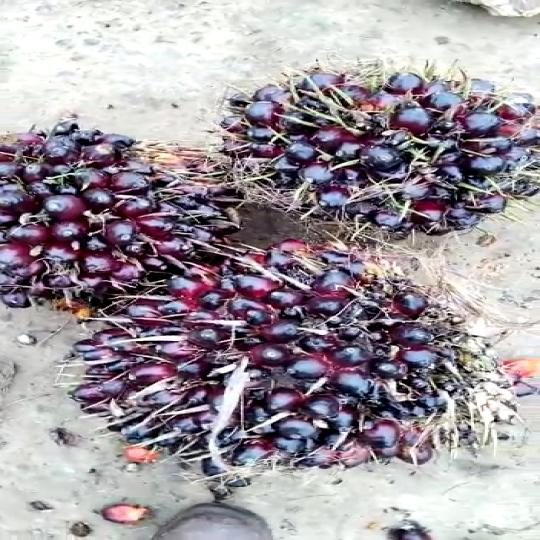mentah: (78, 247, 483, 486), (191, 51, 540, 248), (0, 101, 217, 324)
